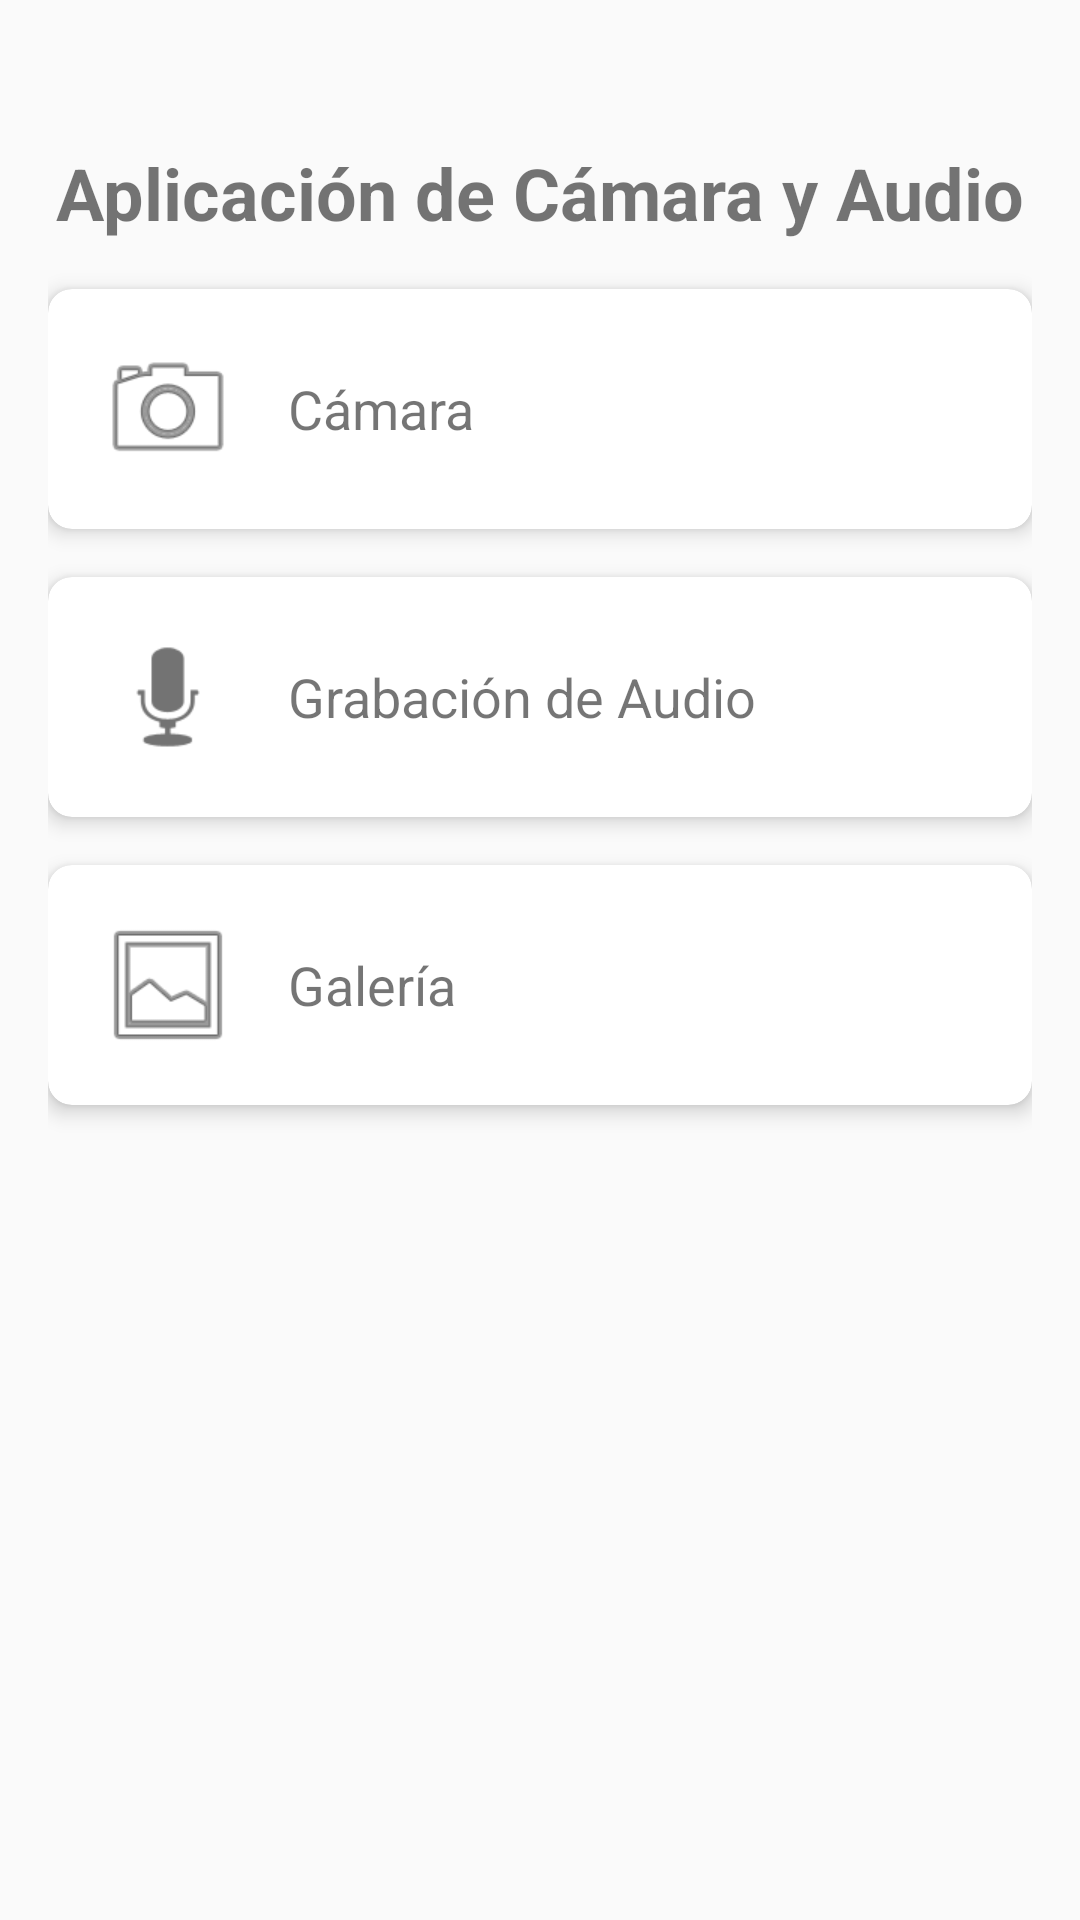

Named icons in this screenshot (1080 x 1920) and their bounding boxes, (x1, y1, x2, y2):
Micrófono: (136, 647, 199, 747)
